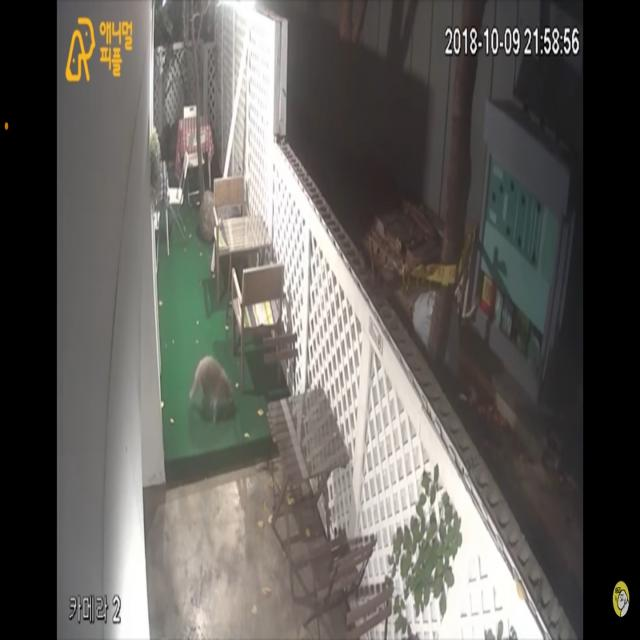racoon: (189, 356, 243, 423)
